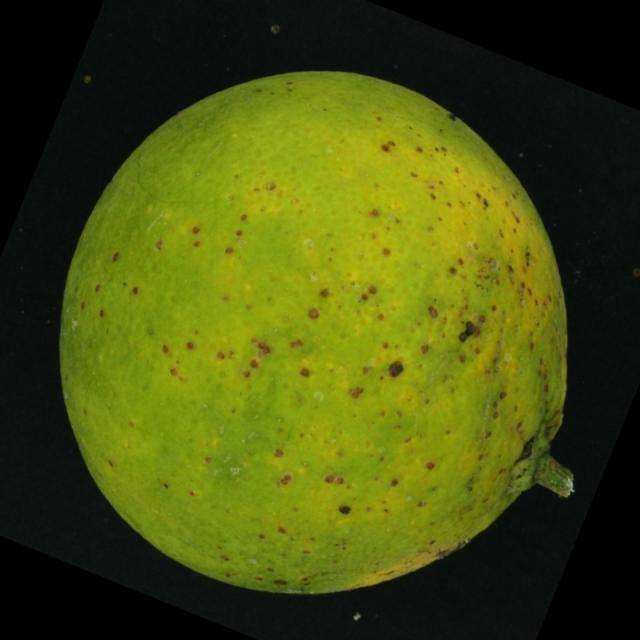grenning: (50, 50, 597, 616)
